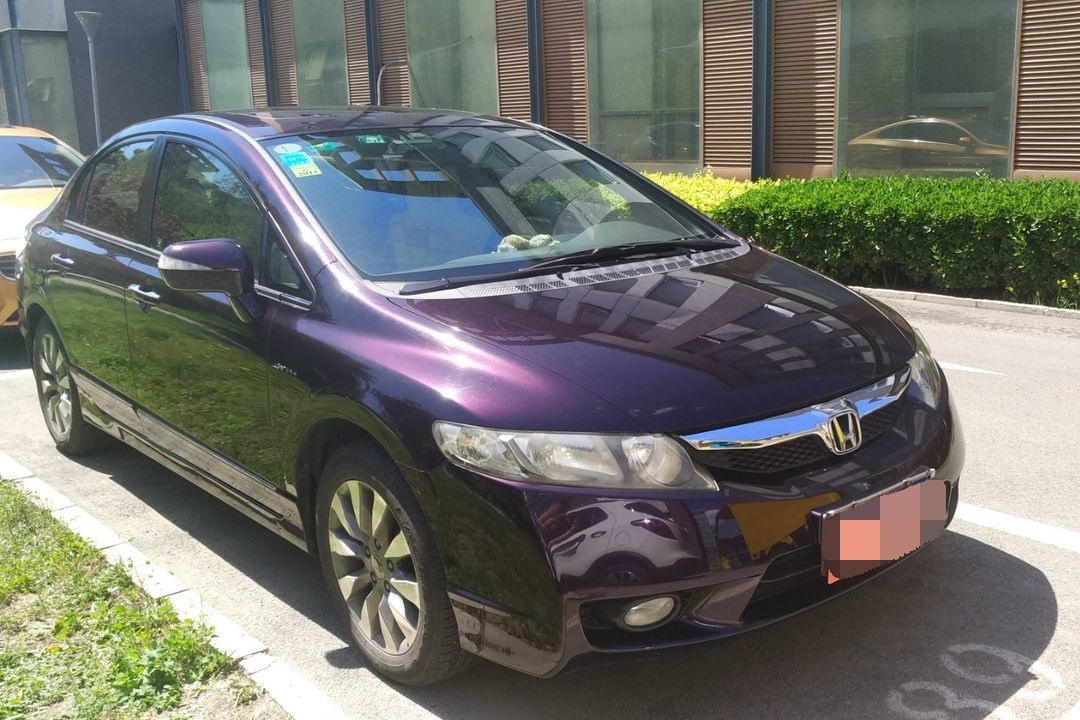family sedan: (39, 83, 966, 666)
